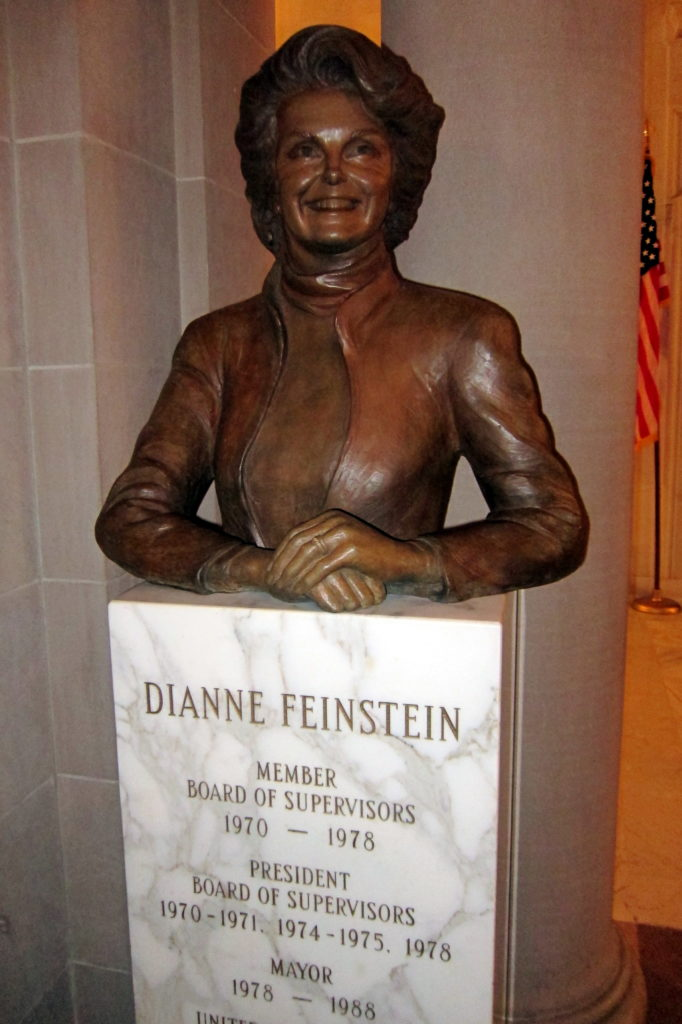person-like: (86, 19, 605, 612)
